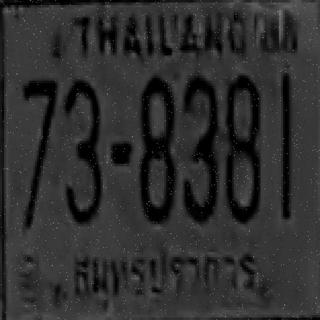N02: (182, 74, 218, 170)
N03: (62, 80, 100, 223), (182, 77, 218, 220)
N07: (22, 78, 56, 161)
N08: (138, 76, 174, 222), (224, 74, 258, 220)
P57: (67, 241, 263, 306)
